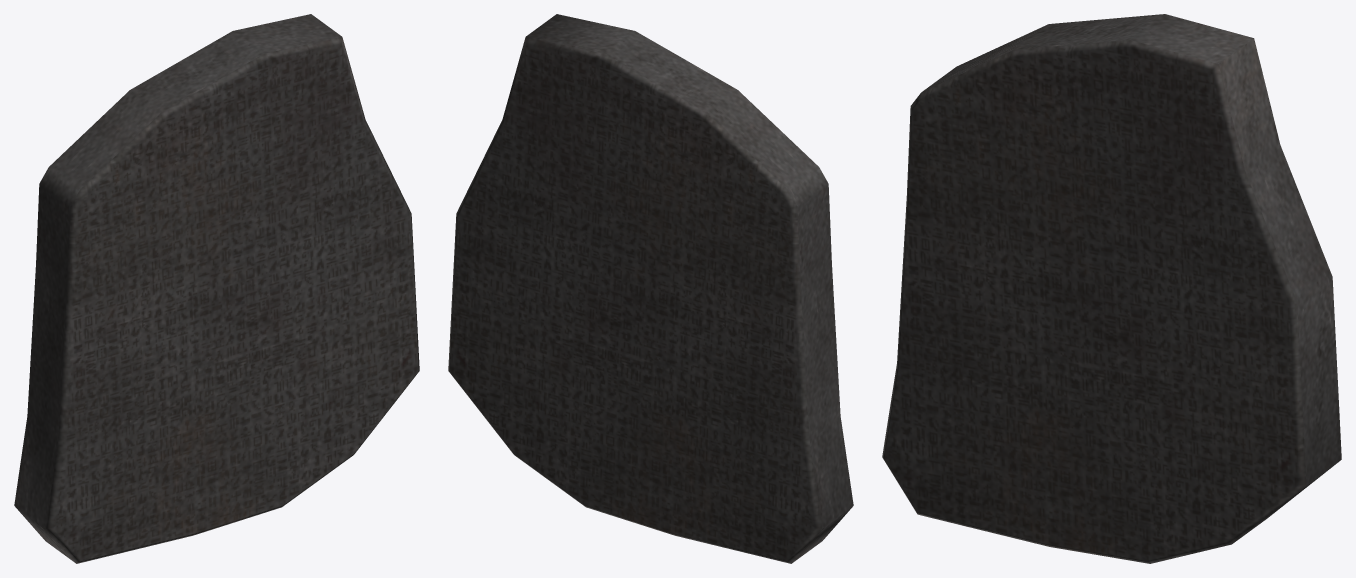
File: Prop_StoneTablet.fbx
3 renders of one model, left to right at view 1: azimuth 30°, elevation 25°; view 2: azimuth 150°, elevation 25°; view 3: azimuth 330°, elevation 25°, orthographic. The views are drawn at different scales.
Visible parts, largest first — view 1: StoneTablet; view 2: StoneTablet; view 3: StoneTablet.
Boxes of the visible parts, x1=… form: StoneTablet: x1=14, y1=14, x2=419, y2=563; StoneTablet: x1=448, y1=14, x2=853, y2=563; StoneTablet: x1=882, y1=14, x2=1341, y2=563.
Size of the model in its own units: 52.19 by 61.91 by 8.73.
Materials: 1 (1 with a texture image).
